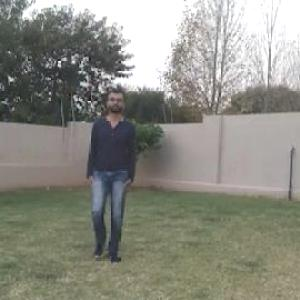follow: (88, 89, 130, 258)
